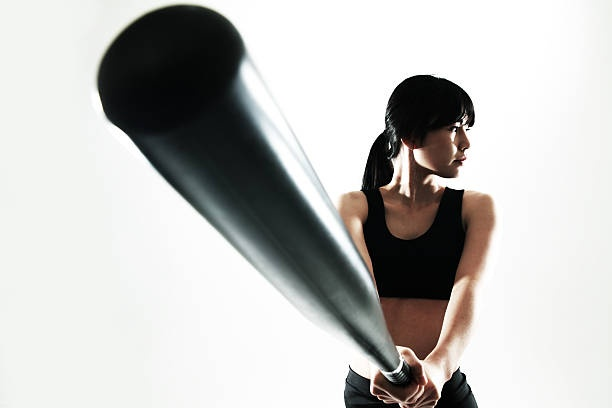bita: (102, 1, 419, 385)
